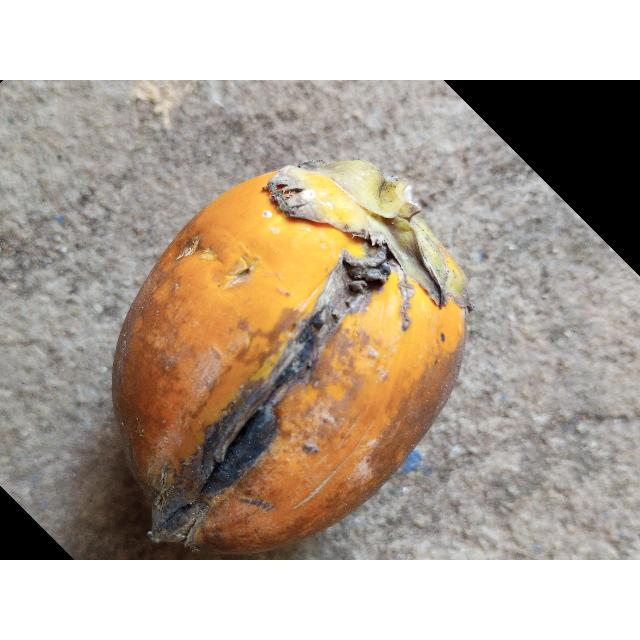damaged: (110, 160, 468, 560)
